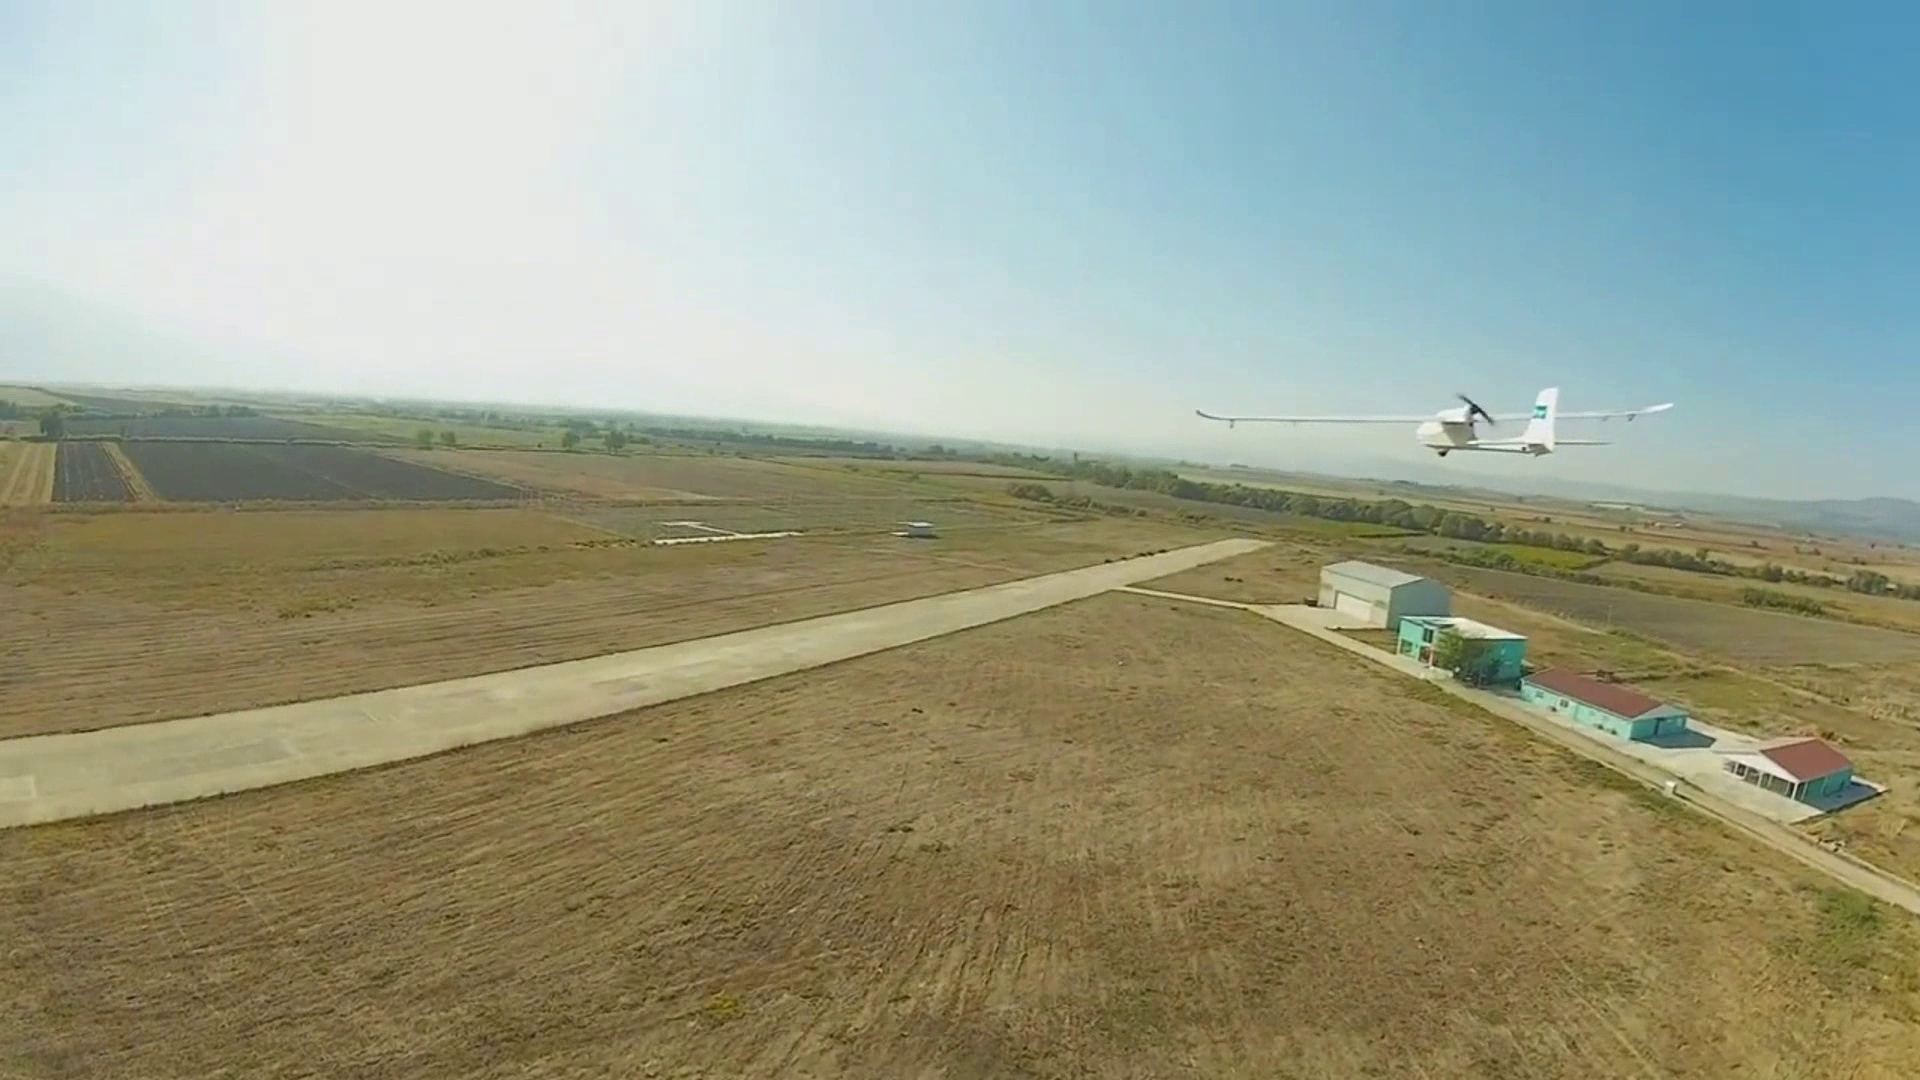airplane: (1189, 382, 1675, 460), (1412, 387, 1673, 459)
